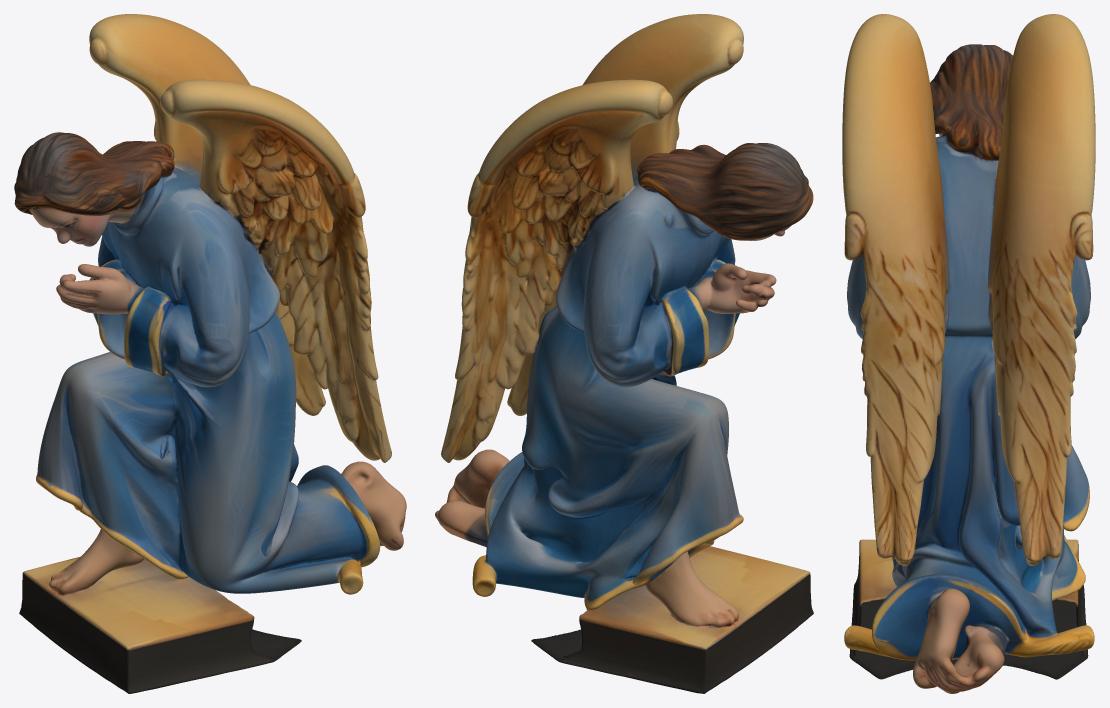
File: angel.glb
3 renders of one model, left to right at view 1: azimuth 30°, elevation 25°; view 2: azimuth 150°, elevation 25°; view 3: azimuth 270°, elevation 25°, orthographic. The views are drawn at different scales.
Parts seen in each view (by area): view 1: tripo_node_f84c5592-7abd-4eb2-8df2-877b868b7c92; view 2: tripo_node_f84c5592-7abd-4eb2-8df2-877b868b7c92; view 3: tripo_node_f84c5592-7abd-4eb2-8df2-877b868b7c92.
Part boxes in pixels (x1=…): tripo_node_f84c5592-7abd-4eb2-8df2-877b868b7c92: x1=14, y1=14, x2=406, y2=693; tripo_node_f84c5592-7abd-4eb2-8df2-877b868b7c92: x1=435, y1=14, x2=813, y2=693; tripo_node_f84c5592-7abd-4eb2-8df2-877b868b7c92: x1=842, y1=14, x2=1095, y2=693.
Size of the model in its own units: 0.6673 by 1 by 0.3779.
1 material, 1 textured.
